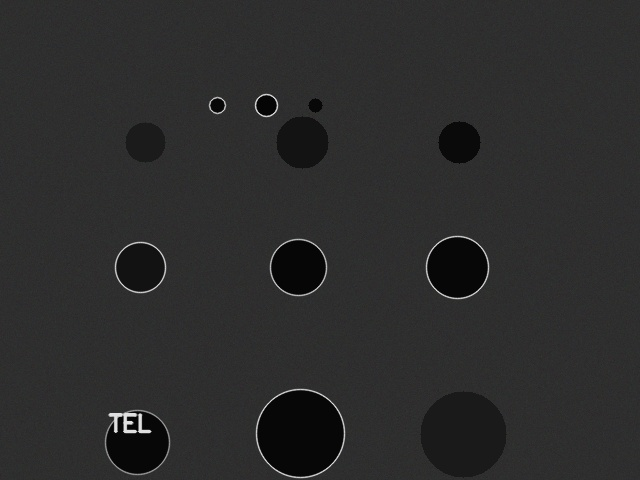hole: (256, 389, 344, 477), (420, 391, 506, 477), (105, 410, 169, 474), (426, 236, 488, 298), (270, 239, 326, 295), (276, 116, 328, 168), (115, 242, 165, 292), (438, 121, 480, 163), (125, 122, 165, 162), (255, 94, 277, 116), (209, 97, 225, 113), (308, 98, 322, 112)
